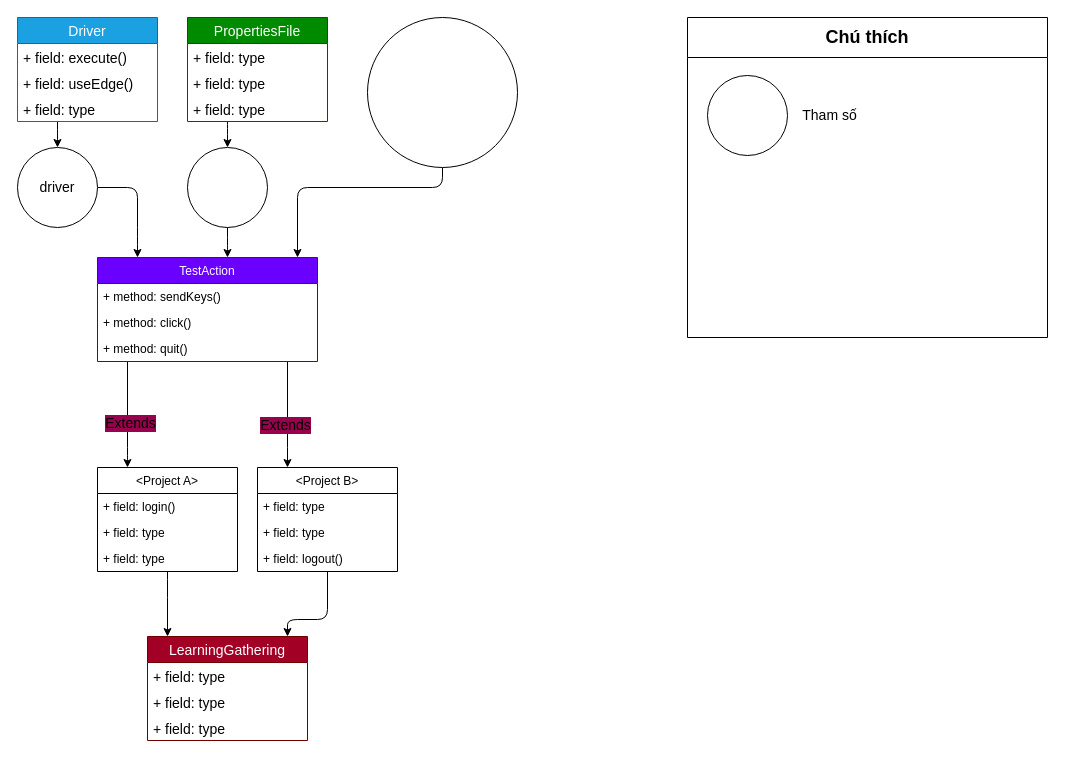
Some shapes in this 1065 by 761 pixel diagram are drawn without their labels. The shapes that lost their labels are listed below. From the top down, each one's centre as x and y in pixels, then its label:
the point at 442,92: https://website.com
the point at 227,187: .properties
